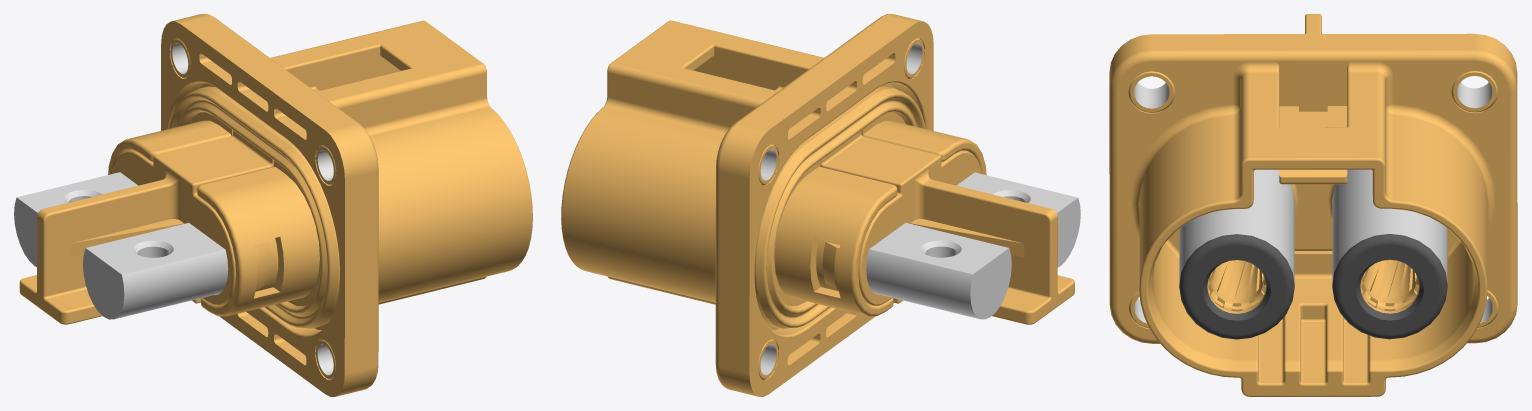
Rendered from GYHE-2-80Z-A.glb.
3 renders of one model, left to right at view 1: azimuth 30°, elevation 25°; view 2: azimuth 150°, elevation 25°; view 3: azimuth 270°, elevation 25°, orthographic. The views are drawn at different scales.
Parts seen in each view (by area): view 1: GYHE-2-80Z-A v2; view 2: GYHE-2-80Z-A v2; view 3: GYHE-2-80Z-A v2.
Part boxes in pixels (x1,y1,x2,y2): GYHE-2-80Z-A v2: [14, 14, 532, 396]; GYHE-2-80Z-A v2: [561, 14, 1080, 396]; GYHE-2-80Z-A v2: [1109, 14, 1517, 396].
Size of the model in its own units: 6.26 by 3.81 by 4.8.
